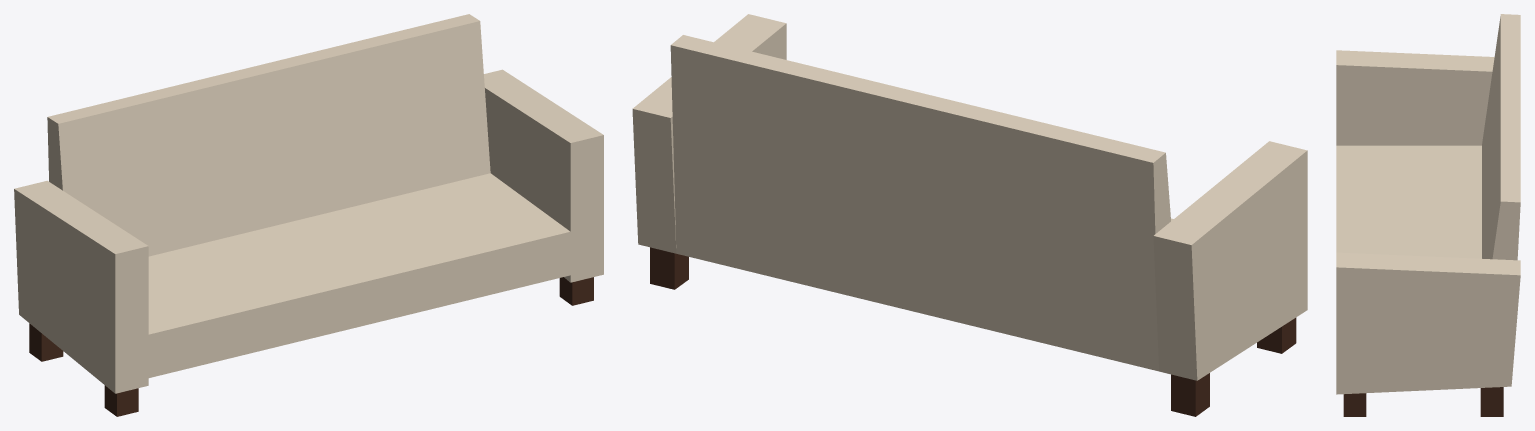
File: Couch_2B.fbx
3 renders of one model, left to right at view 1: azimuth 30°, elevation 25°; view 2: azimuth 150°, elevation 25°; view 3: azimuth 270°, elevation 25°, orthographic. The views are drawn at different scales.
Visible parts, largest first — view 1: polySurface719; view 2: polySurface719; view 3: polySurface719.
Part boxes in pixels (x1=…): polySurface719: x1=14, y1=14, x2=603, y2=416; polySurface719: x1=632, y1=14, x2=1307, y2=416; polySurface719: x1=1336, y1=14, x2=1520, y2=416.
Size of the model in its own units: 2.93 by 1.28 by 1.05.
1 material, 1 textured.
